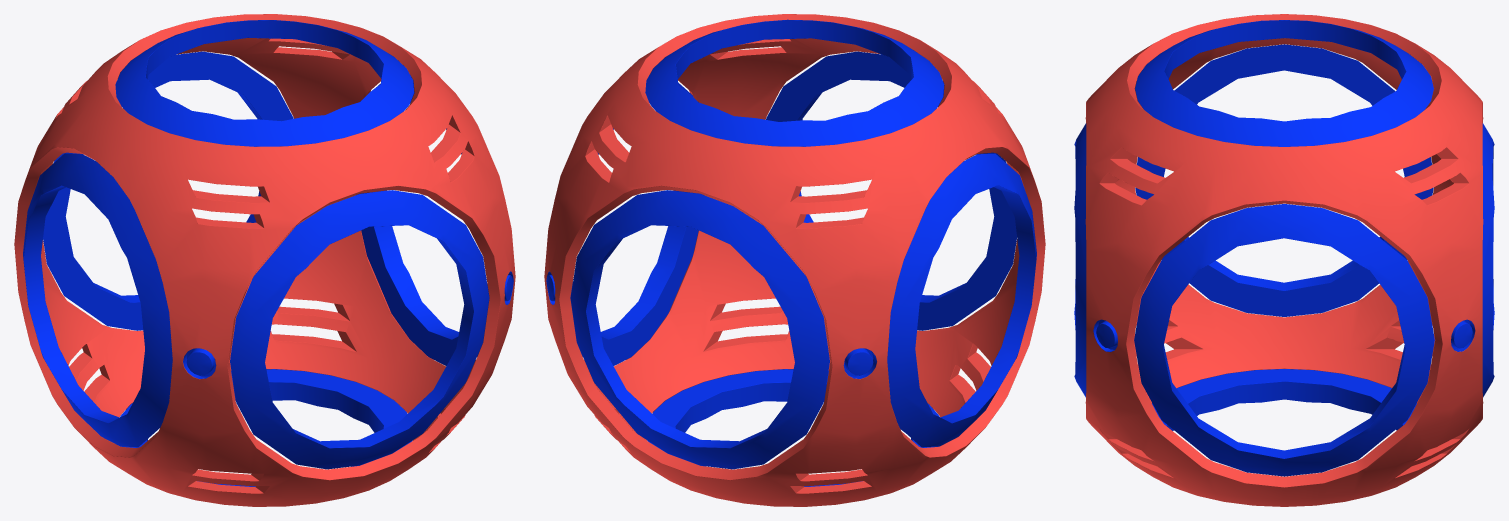
Rendered from Outer Shell Final1.fbx.
The picture shows the model from 3 angles, left to right: view 1: azimuth 30°, elevation 25°; view 2: azimuth 150°, elevation 25°; view 3: azimuth 270°, elevation 25°; orthographic projection.
Visible parts, largest first — view 1: Sphere.002, Slice.005, Slice.004, Slice.003; view 2: Sphere.002, Slice.005, Slice.004, Slice.003; view 3: Sphere.002, Slice.004, Slice.003, Slice.005.
Boxes of the visible parts, x1,y1,x2,y2 form: Sphere.002: (14,14,515,506); Slice.005: (43,51,489,469); Slice.004: (23,75,489,447); Slice.003: (115,20,414,486); Sphere.002: (544,14,1045,506); Slice.005: (570,51,1016,469); Slice.004: (570,75,1036,447); Slice.003: (645,19,944,486); Sphere.002: (1085,14,1483,506); Slice.004: (1134,44,1434,476); Slice.003: (1135,20,1433,430); Slice.005: (1074,123,1494,397).
Bounding box in the file's own units: 173 × 174 × 173.
